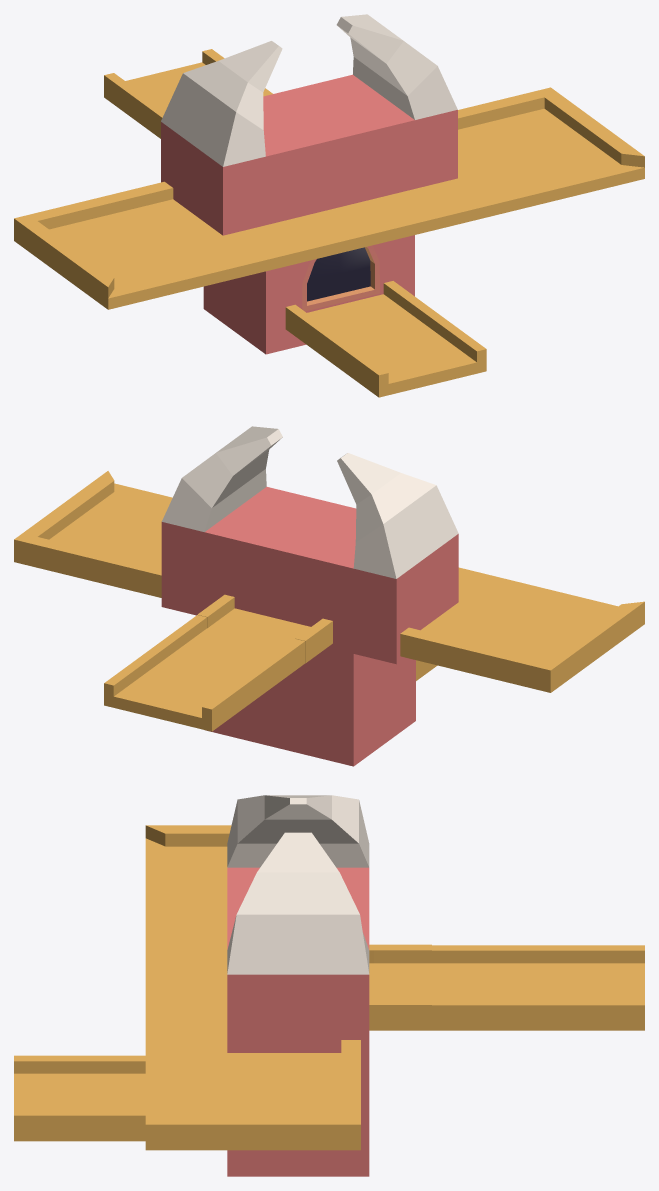
Rendered from MathRunnerModels.fbx.
3 views of the same model, one above another, from view 1: azimuth 30°, elevation 25°; view 2: azimuth 150°, elevation 25°; view 3: azimuth 270°, elevation 25° (orthographic). The views are drawn at different scales.
Visible parts, largest first — view 1: Finish, StartBuilding, Road; view 2: Finish, StartBuilding, Road; view 3: Finish, StartBuilding, Road.
Part boxes in pixels (<box>): Finish: <box>161,14,486,397</box>; StartBuilding: <box>14,87,644,309</box>; Road: <box>104,49,272,138</box>; Finish: <box>161,426,458,766</box>; StartBuilding: <box>14,471,644,692</box>; Road: <box>104,615,305,731</box>; Finish: <box>14,795,369,1176</box>; StartBuilding: <box>145,825,431,1150</box>; Road: <box>432,945,644,1030</box>.
Bounding box in the file's own units: 996 × 503 × 888.
